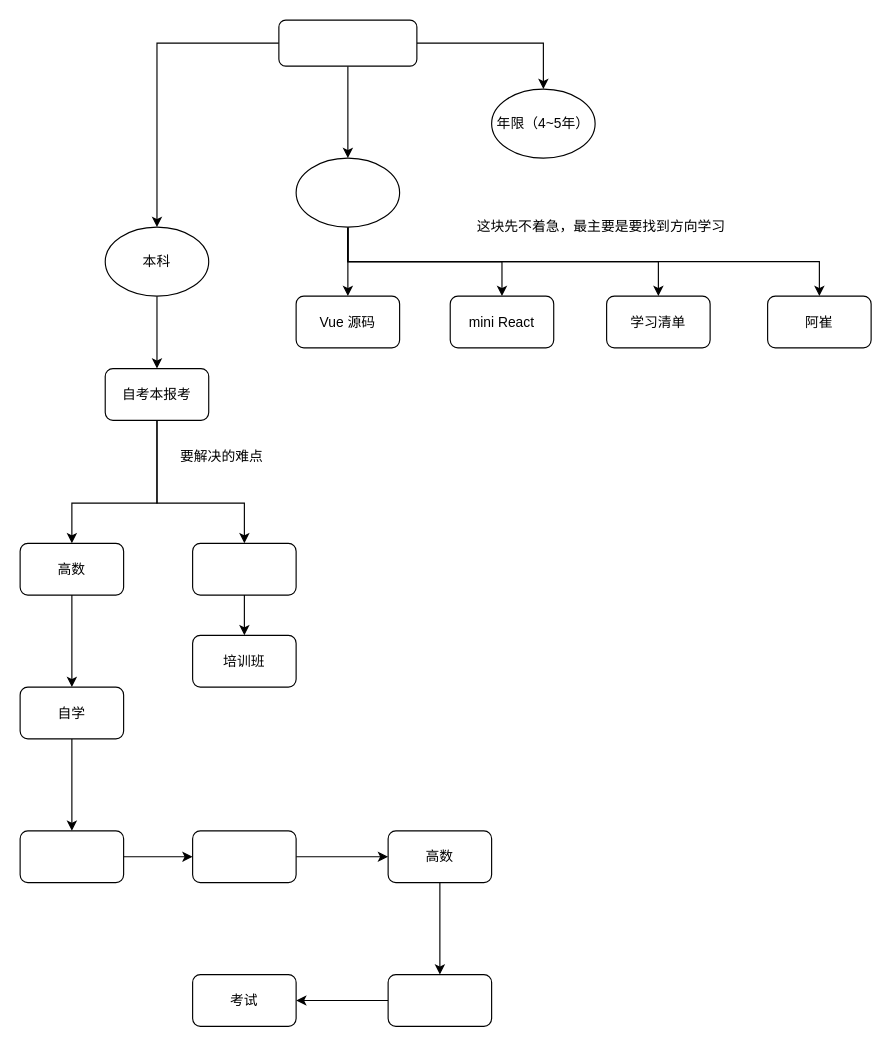
This 891x1047 diagram has some shape labels left out. The box of each missing label's shape, as (x1, y1, x2, y2) in pixels:
前端 leader: (278, 19, 417, 66)
小学/初中: (19, 830, 124, 883)
技术: (295, 157, 400, 227)
考试本: (387, 973, 492, 1026)
英语: (191, 542, 296, 595)
高中: (191, 830, 296, 883)
